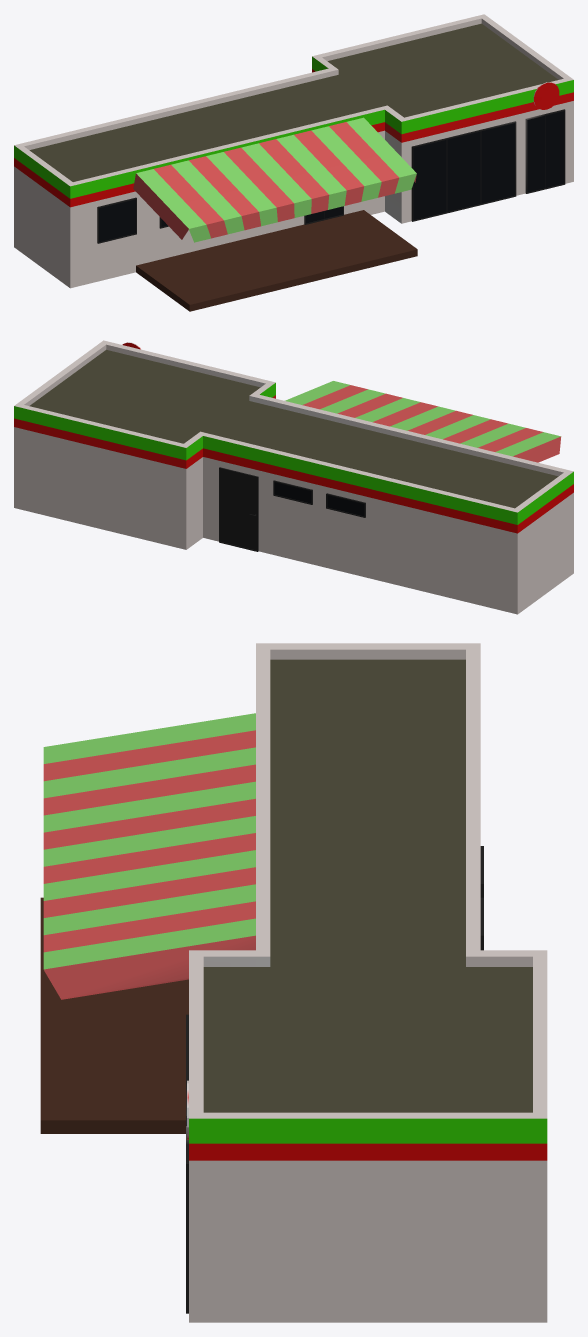
File: SM_gastation_shop.FBX
3 views of the same model, one above another, from view 1: azimuth 30°, elevation 25°; view 2: azimuth 150°, elevation 25°; view 3: azimuth 270°, elevation 25° (orthographic). The views are drawn at different scales.
Visible parts, largest first — view 1: gastationshop; view 2: gastationshop; view 3: gastationshop.
Part boxes in pixels (box(x1,y1,x2,y2)): gastationshop: box(14, 14, 573, 311); gastationshop: box(14, 340, 573, 614); gastationshop: box(40, 643, 547, 1322).
Size of the model in its own units: 1500 by 312 by 676.
